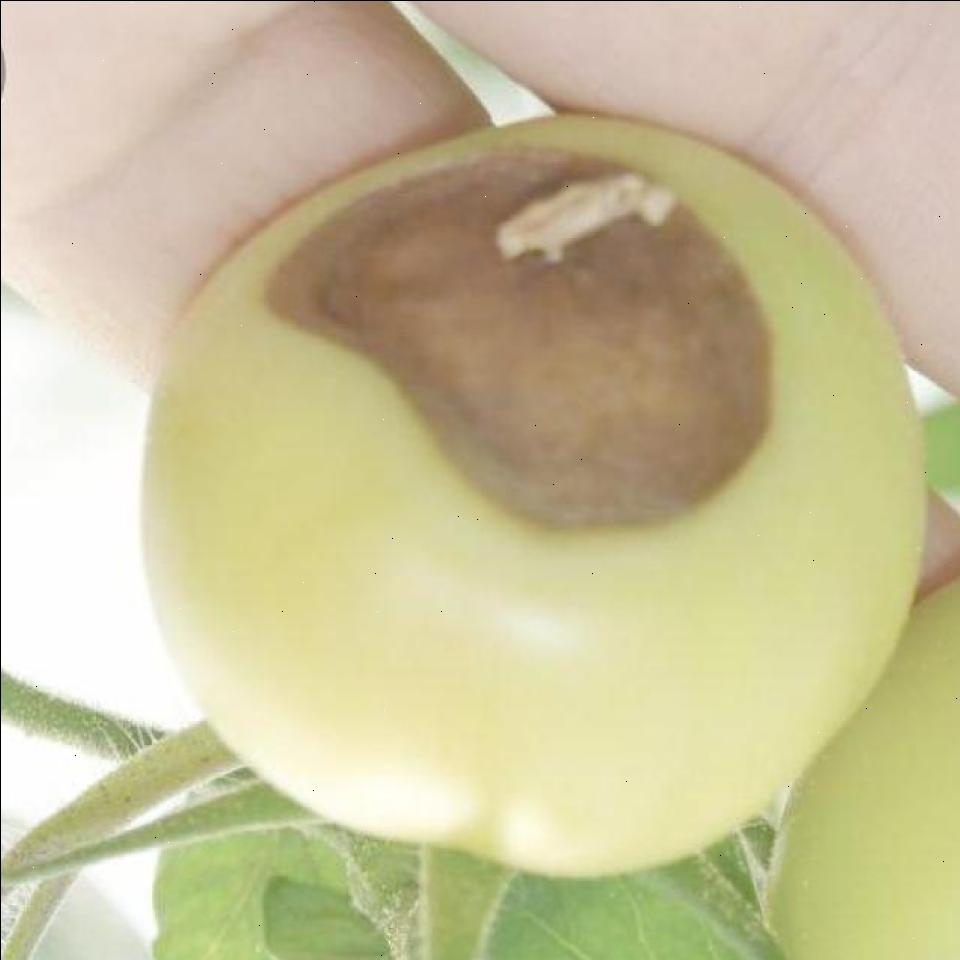Blossom_end_rot: (254, 148, 777, 548)
